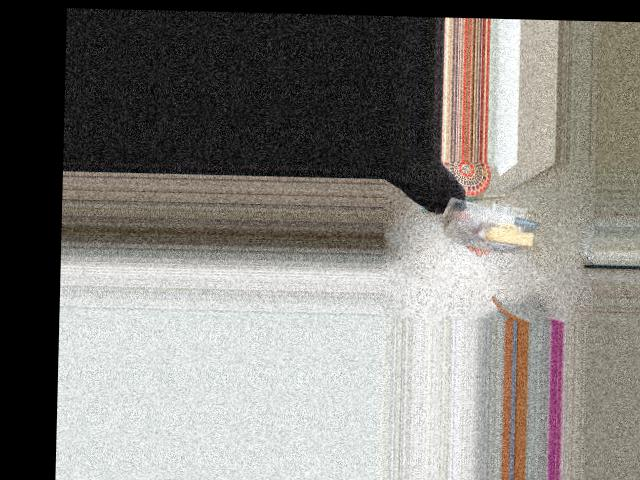cheese: (443, 194, 539, 255)
